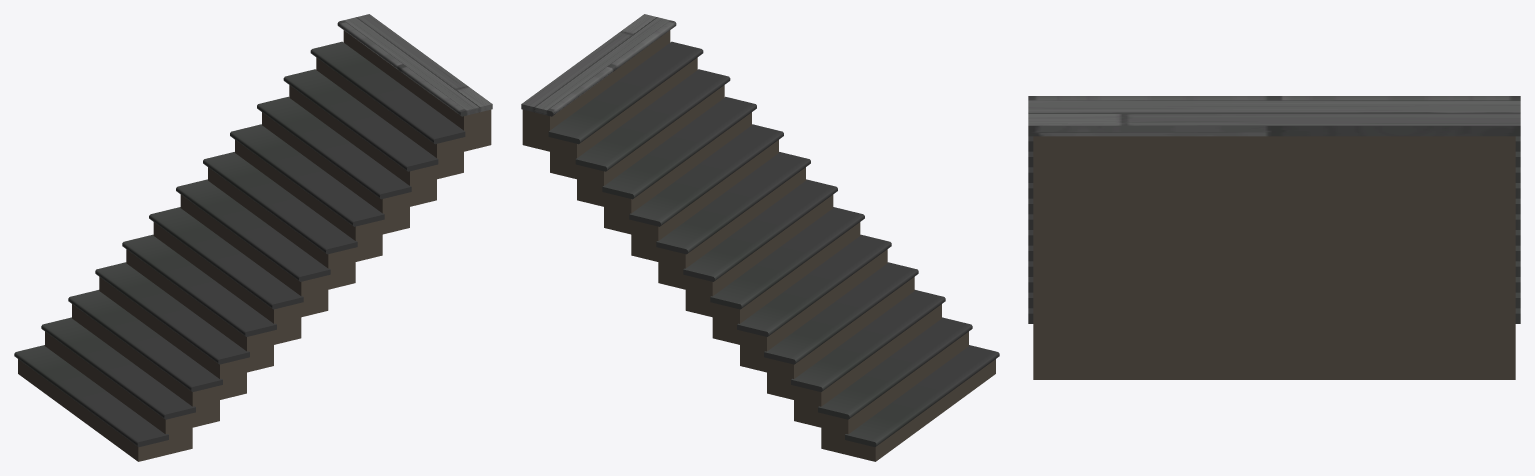
Rendered from SM_Bld_House_Stairs_Interior_01.obj.
3 views of the same model, side by side, from view 1: azimuth 30°, elevation 25°; view 2: azimuth 150°, elevation 25°; view 3: azimuth 270°, elevation 25° (orthographic). The views are drawn at different scales.
Parts seen in each view (by area): view 1: SM_Bld_House_Stairs_Interior_01_Mat_SwatchOverlay_PolygonTown_01, SM_Bld_House_Stairs_Interior_01_mi_HouseInteriorFloor_01; view 2: SM_Bld_House_Stairs_Interior_01_Mat_SwatchOverlay_PolygonTown_01, SM_Bld_House_Stairs_Interior_01_mi_HouseInteriorFloor_01; view 3: SM_Bld_House_Stairs_Interior_01_Mat_SwatchOverlay_PolygonTown_01, SM_Bld_House_Stairs_Interior_01_mi_HouseInteriorFloor_01.
Part boxes in pixels (x1,y1,x2,y2): SM_Bld_House_Stairs_Interior_01_Mat_SwatchOverlay_PolygonTown_01: [14, 30, 491, 461]; SM_Bld_House_Stairs_Interior_01_mi_HouseInteriorFloor_01: [337, 14, 492, 116]; SM_Bld_House_Stairs_Interior_01_Mat_SwatchOverlay_PolygonTown_01: [522, 30, 999, 461]; SM_Bld_House_Stairs_Interior_01_mi_HouseInteriorFloor_01: [521, 14, 676, 116]; SM_Bld_House_Stairs_Interior_01_Mat_SwatchOverlay_PolygonTown_01: [1028, 136, 1520, 379]; SM_Bld_House_Stairs_Interior_01_mi_HouseInteriorFloor_01: [1028, 96, 1520, 136].
Size of the model in its own units: 8.5 by 6.24 by 5.11.
3 materials, 3 textured.
